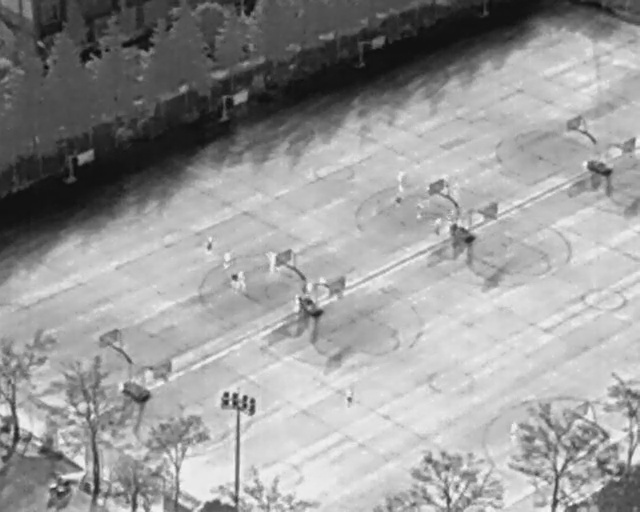Person: (205, 233, 215, 260), (346, 386, 356, 408), (397, 168, 405, 192), (415, 201, 425, 220), (230, 272, 238, 295), (238, 269, 246, 292), (222, 250, 231, 268), (434, 215, 442, 234), (396, 193, 403, 206)
